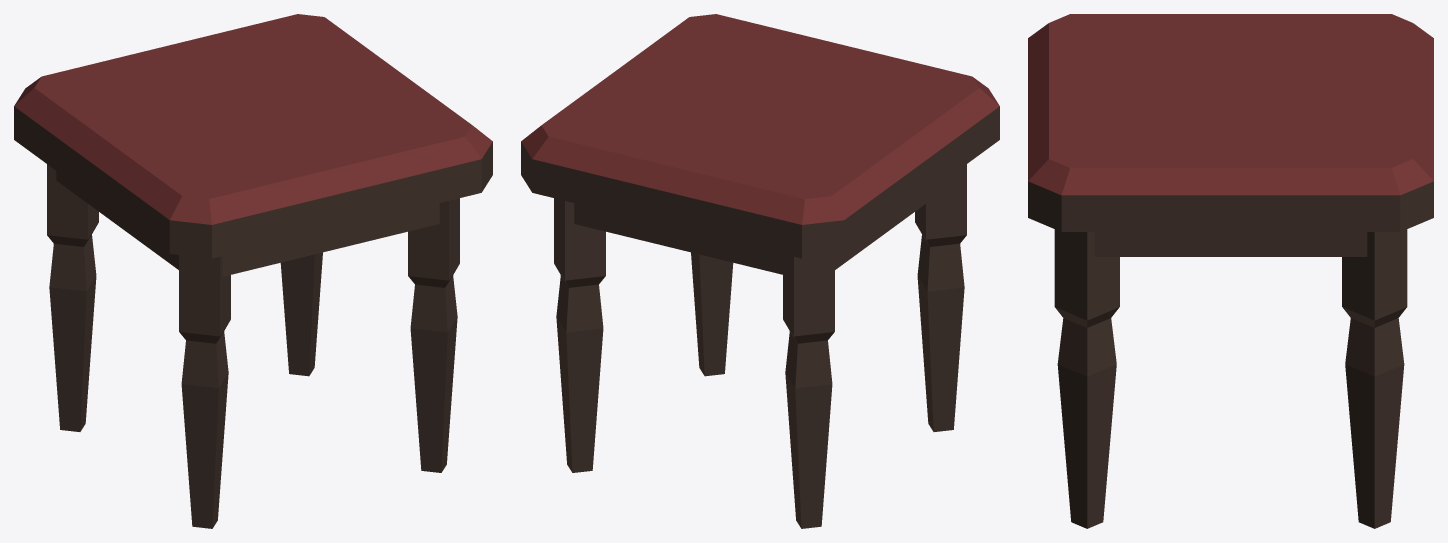
Rendered from LPHorror_Stool.fbx.
3 renders of one model, left to right at view 1: azimuth 30°, elevation 25°; view 2: azimuth 150°, elevation 25°; view 3: azimuth 270°, elevation 25°, orthographic. The views are drawn at different scales.
Parts seen in each view (by area): view 1: Stool; view 2: Stool; view 3: Stool.
Boxes of the visible parts, left/top/right/bottom form: Stool: left=14, top=14, right=492, bottom=528; Stool: left=521, top=14, right=999, bottom=528; Stool: left=1028, top=14, right=1433, bottom=528.
Bounding box in the file's own units: 65.33 × 65.82 × 65.33.
